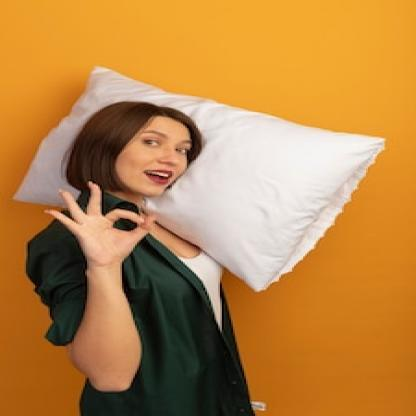ok: (44, 178, 161, 266)
